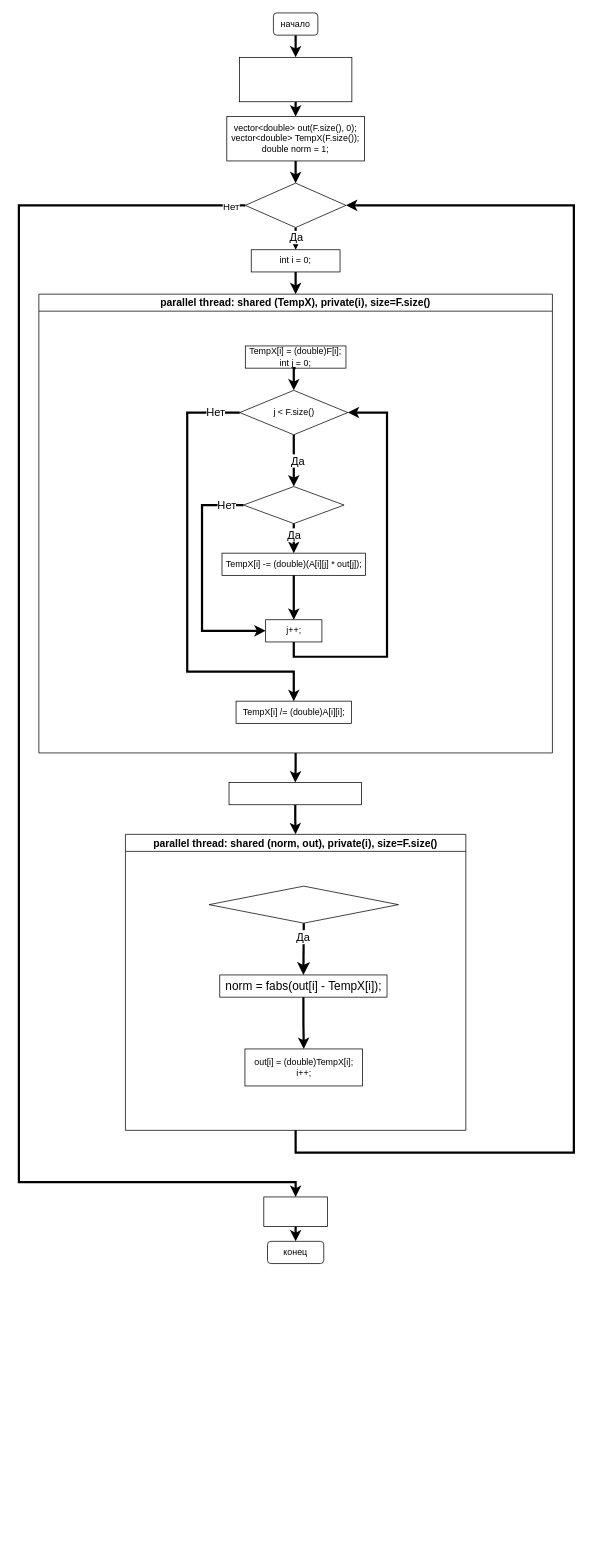
Some shapes in this 599 by 1565 pixel diagram are drawn without their labels. Each missing label, with the box of its shape:
i != j: (243, 486, 344, 524)
norm = fabs(out[0] - TempX[0]);: (228, 782, 361, 805)
norm > eps: (245, 182, 346, 228)
return out;: (263, 1196, 327, 1227)
|out[i] - TempX[i]| > norm: (208, 885, 398, 923)
Ввод vector<vector<double>> A vector<double> F double eps: (239, 57, 352, 102)
